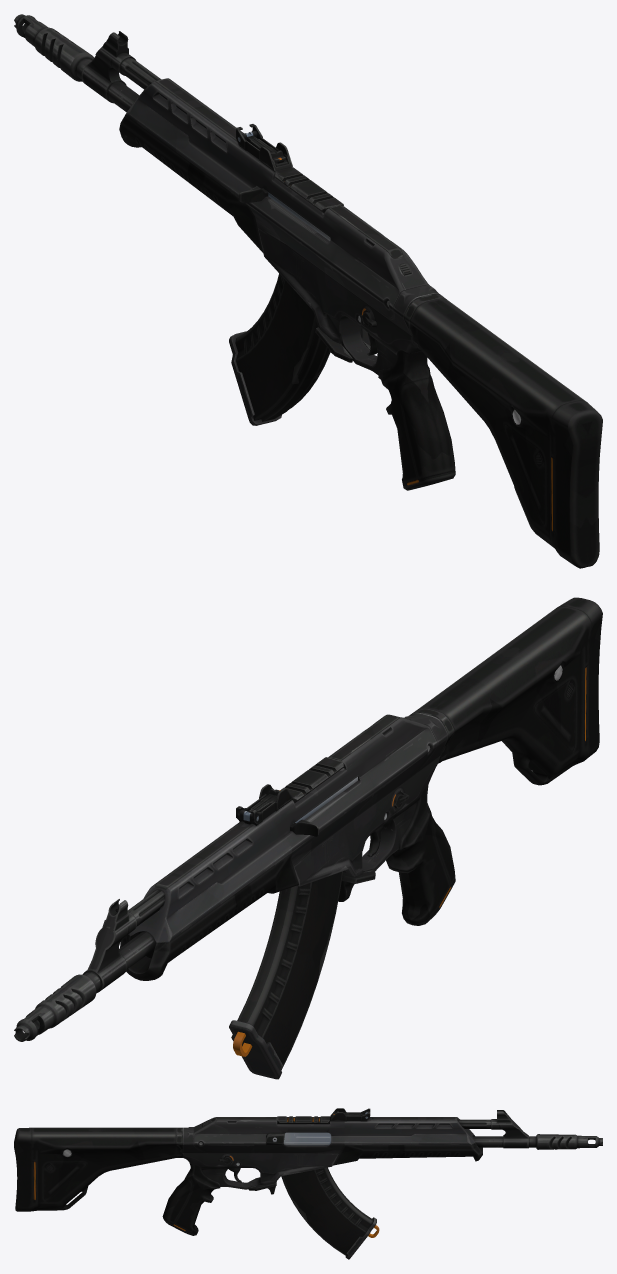
Rendered from standard-vandal.glb.
3 renders of one model, top to bottom at view 1: azimuth 30°, elevation 25°; view 2: azimuth 150°, elevation 25°; view 3: azimuth 270°, elevation 25°, orthographic. The views are drawn at different scales.
Parts seen in each view (by area): view 1: vandal body_2, mag_1; view 2: vandal body_2, mag_1; view 3: vandal body_2, mag_1.
Part boxes in pixels (x1,y1,x2,y2): vandal body_2: (14, 14, 602, 568); mag_1: (229, 273, 330, 425); vandal body_2: (14, 597, 602, 1041); mag_1: (229, 871, 342, 1079); vandal body_2: (14, 1108, 602, 1235); mag_1: (281, 1167, 379, 1259).
Size of the model in its own units: 0.0837 by 0.3515 by 1.28.
Materials: 1 (1 with a texture image).
